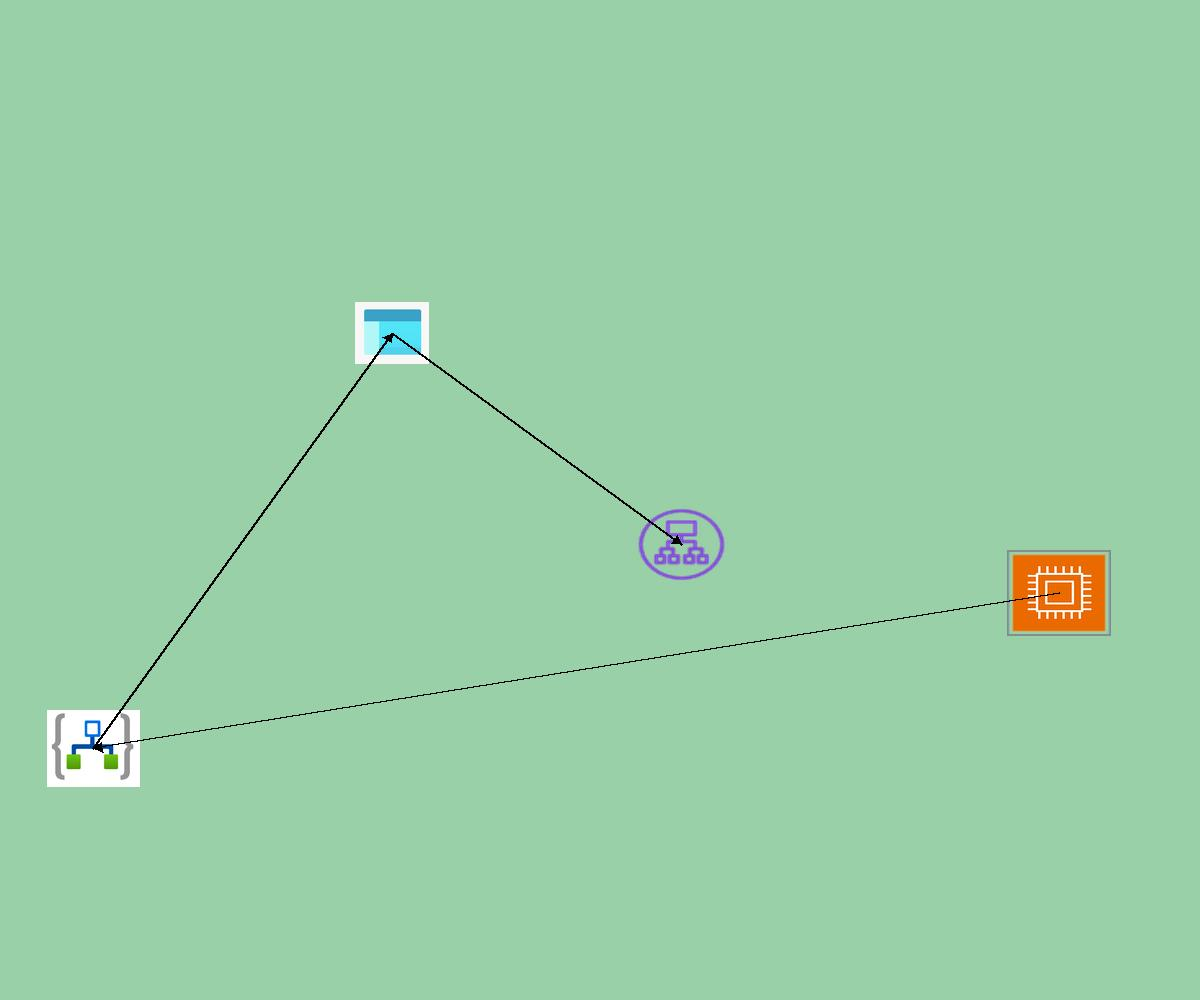AWS-Category_Compute: (1007, 550, 1111, 636)
AWS-Res_Elastic-Load-Balancing_Application-Load-Balancer: (635, 506, 728, 583)
Azure_integration-204-Logic-Apps: (47, 710, 140, 787)
Azure_management-portal: (355, 302, 429, 364)
